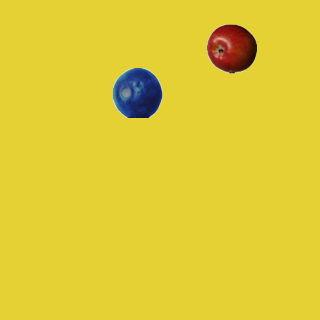Apple Braeburn: (206, 23, 256, 73)
Huckleberry: (112, 67, 162, 117)
